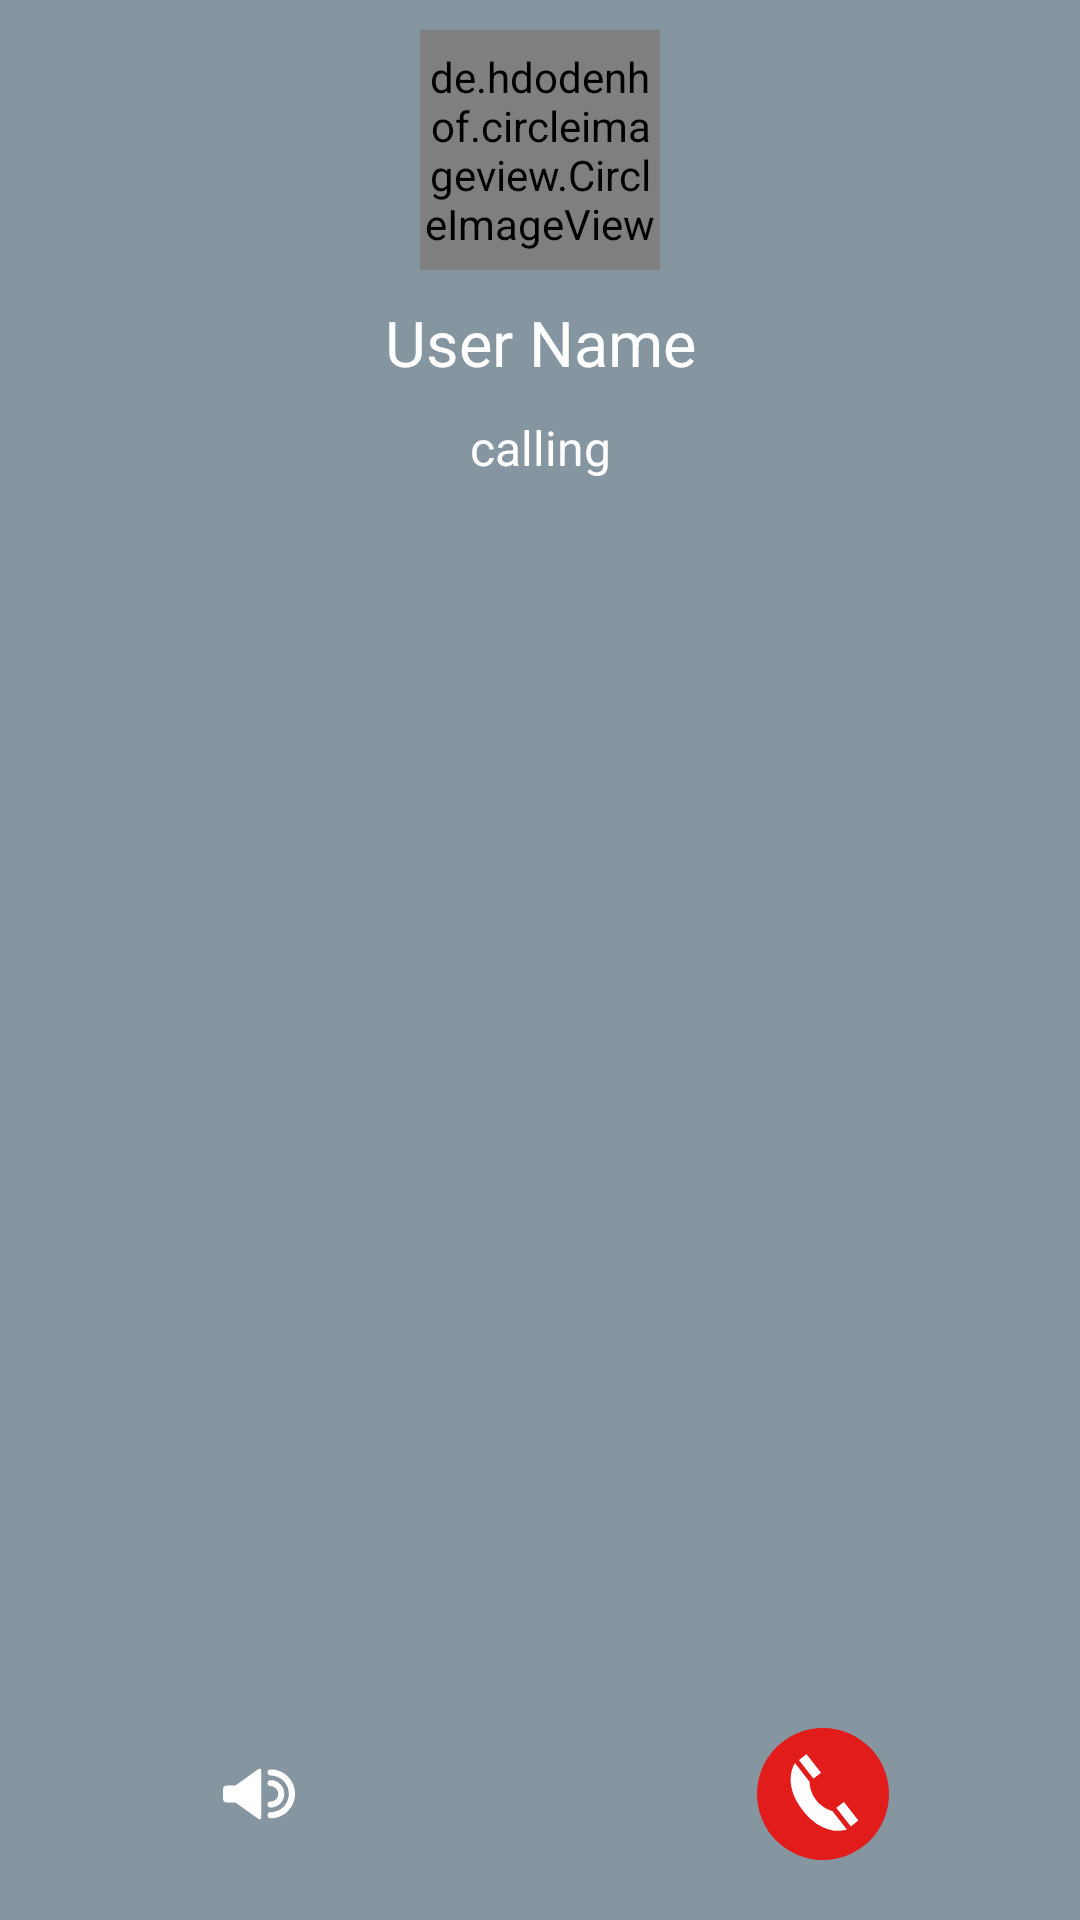

Icons on this 1080 x 1920 Android screen, each with the point to tap as point (x, y):
call ended: point (823, 1794)
speaker: point (259, 1794)
